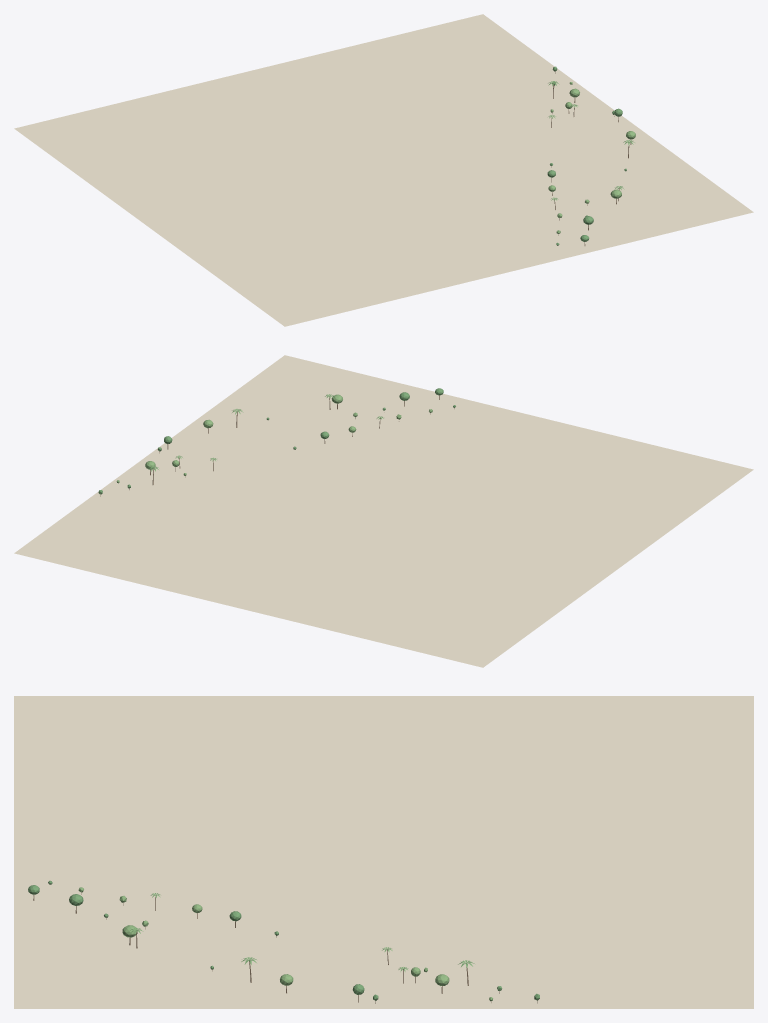
Rendered from nature_-5_-2.glb.
3 views of the same model, one above another, from view 1: azimuth 30°, elevation 25°; view 2: azimuth 150°, elevation 25°; view 3: azimuth 270°, elevation 25° (orthographic). The views are drawn at different scales.
Visible parts, largest first — view 1: ground; view 2: ground; view 3: ground, foliage_b, foliage_a.
Part boxes in pixels (x1,y1,x2,y2): ground: (14, 14, 753, 326); ground: (14, 355, 753, 667); ground: (14, 696, 753, 1008); foliage_b: (78, 887, 492, 1001); foliage_a: (28, 880, 539, 1000).
Bounding box in the file's own units: 250 × 8.87 × 250.
